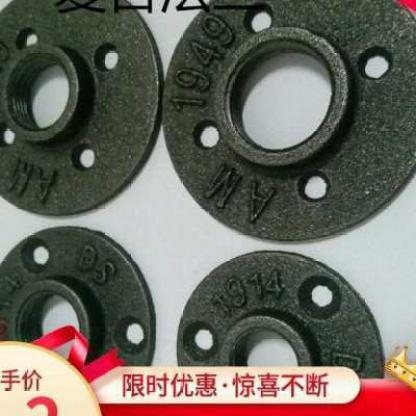FOD: (160, 0, 416, 247), (0, 0, 165, 222), (172, 247, 391, 378), (0, 224, 157, 370)
